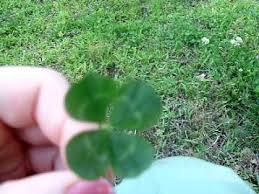4-clover: (63, 73, 161, 180)
